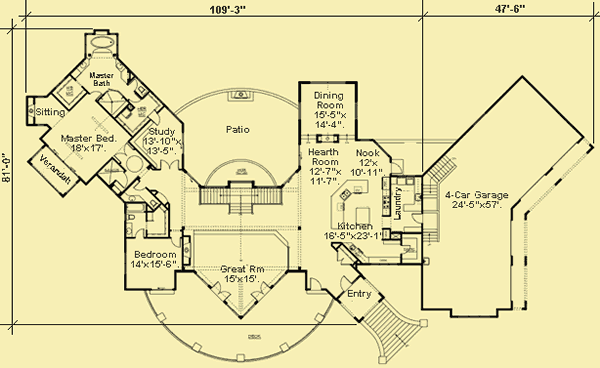door: (211, 280, 232, 302), (250, 280, 272, 301), (113, 143, 135, 162), (334, 247, 353, 267), (305, 275, 321, 293), (338, 274, 354, 292), (117, 170, 131, 190), (159, 158, 182, 170), (149, 109, 165, 126), (167, 233, 184, 248), (410, 210, 424, 227), (392, 158, 403, 176), (134, 178, 149, 191), (134, 225, 145, 240), (88, 88, 102, 99), (127, 93, 140, 103), (129, 80, 139, 91)
kitchen bar: (328, 177, 372, 237)
large sink: (124, 213, 136, 222)
small sink: (123, 222, 131, 237)
stairs: (357, 300, 430, 367), (197, 176, 285, 219), (422, 152, 460, 248)
tub: (85, 33, 119, 53), (126, 203, 148, 214)
